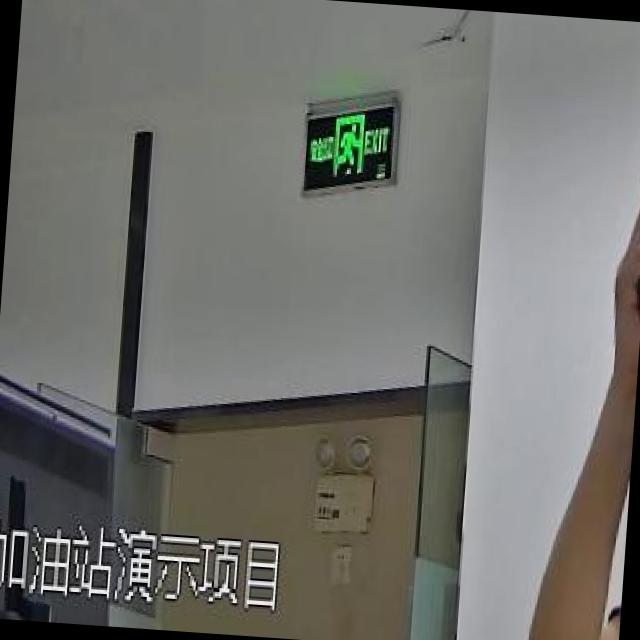Guns: (605, 21, 640, 368)
